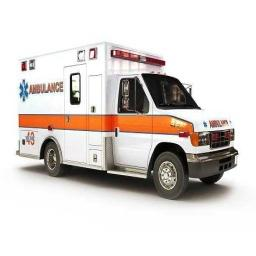Ambulance: (17, 43, 237, 198)
